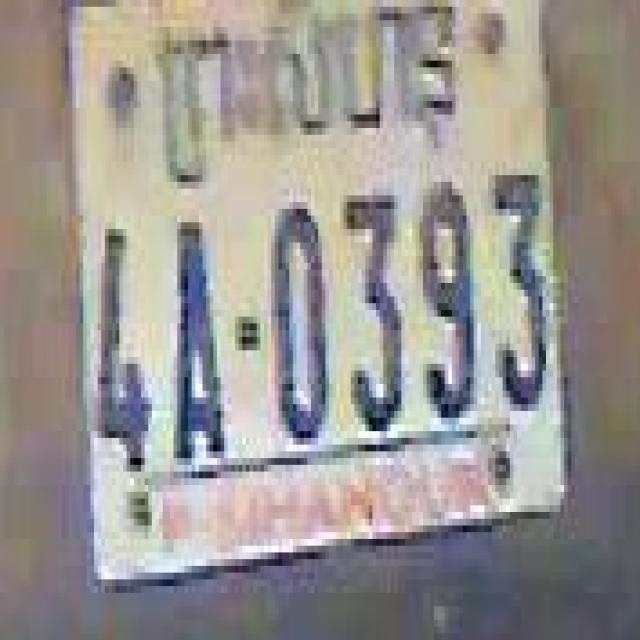Preah_Sihanouk: (156, 0, 457, 187)
